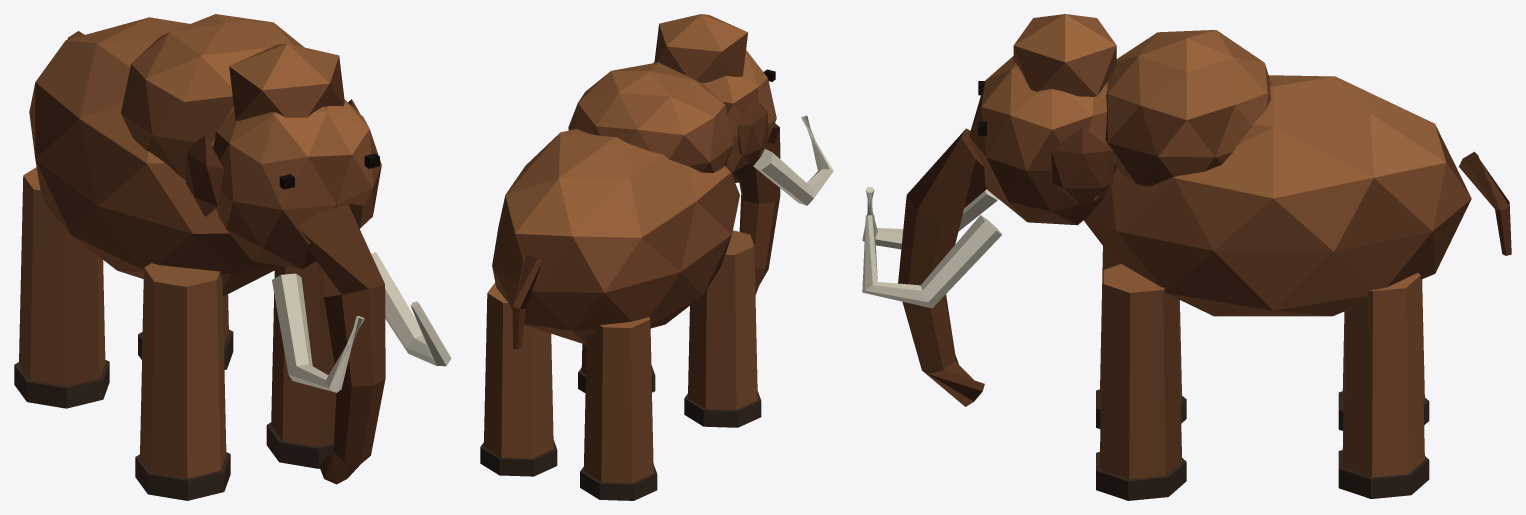
File: mammoth.glb
The picture shows the model from 3 angles, left to right: view 1: azimuth 30°, elevation 25°; view 2: azimuth 150°, elevation 25°; view 3: azimuth 270°, elevation 25°; orthographic projection. The views are drawn at different scales.
Parts seen in each view (by area): view 1: mammoth; view 2: mammoth; view 3: mammoth.
Boxes of the visible parts, <box> form: mammoth: <box>14,14,451,500</box>; mammoth: <box>480,14,833,500</box>; mammoth: <box>862,14,1511,500</box>.
Bounding box in the file's own units: 2.93 × 5.55 × 7.49.
